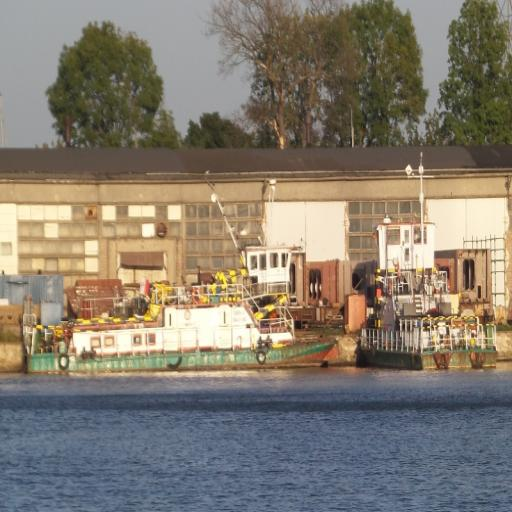tugboat: (21, 233, 343, 383)
